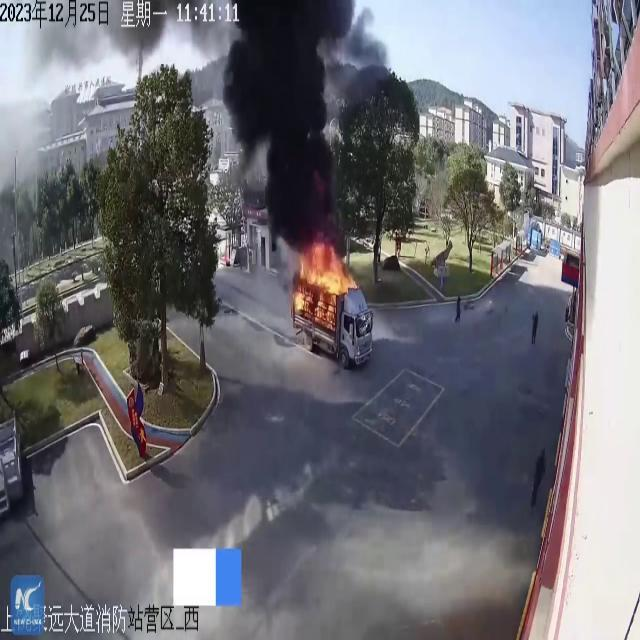Fire: (291, 238, 356, 322)
Smoke: (217, 0, 373, 249), (15, 0, 174, 102)
